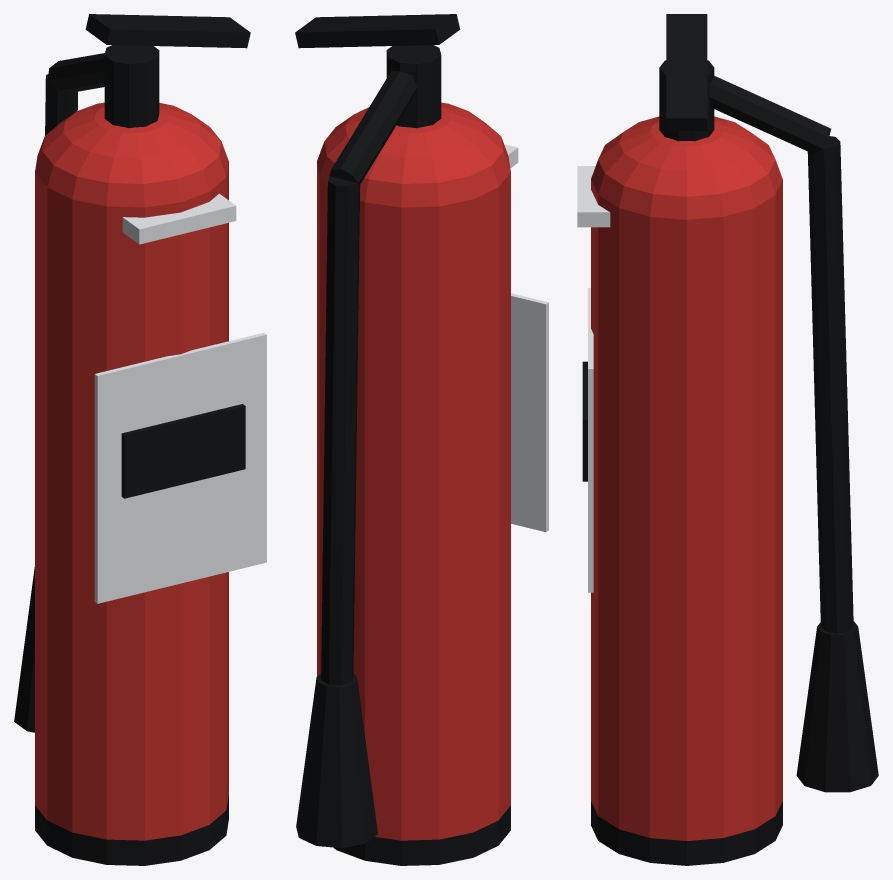
File: 41_Fire_Extinguisher_CO2.fbx
3 renders of one model, left to right at view 1: azimuth 30°, elevation 25°; view 2: azimuth 150°, elevation 25°; view 3: azimuth 270°, elevation 25°, orthographic.
Parts seen in each view (by area): view 1: 41_Fire_Extinguisher_CO2; view 2: 41_Fire_Extinguisher_CO2; view 3: 41_Fire_Extinguisher_CO2.
Part boxes in pixels (x1,y1,x2,y2): 41_Fire_Extinguisher_CO2: [14, 14, 266, 865]; 41_Fire_Extinguisher_CO2: [295, 14, 548, 865]; 41_Fire_Extinguisher_CO2: [577, 14, 878, 865].
Bounding box in the file's own units: 0.1596 × 0.6407 × 0.22.
